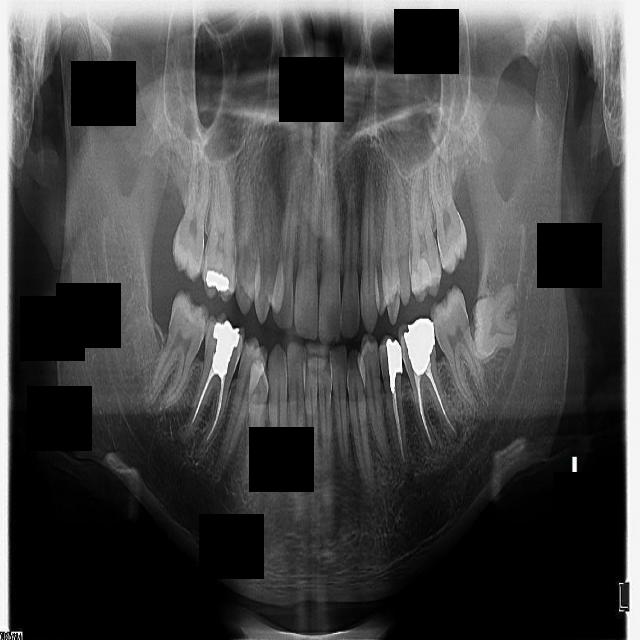74: (422, 360, 455, 436), (205, 373, 230, 444), (189, 366, 216, 429), (412, 368, 433, 448), (391, 389, 404, 463)
NucleOSS Implant: (401, 316, 445, 376), (210, 320, 241, 381), (385, 335, 408, 393), (200, 265, 233, 295)
Sterngold Implant: (181, 314, 194, 328)
Straumann Implant: (410, 259, 434, 298)
